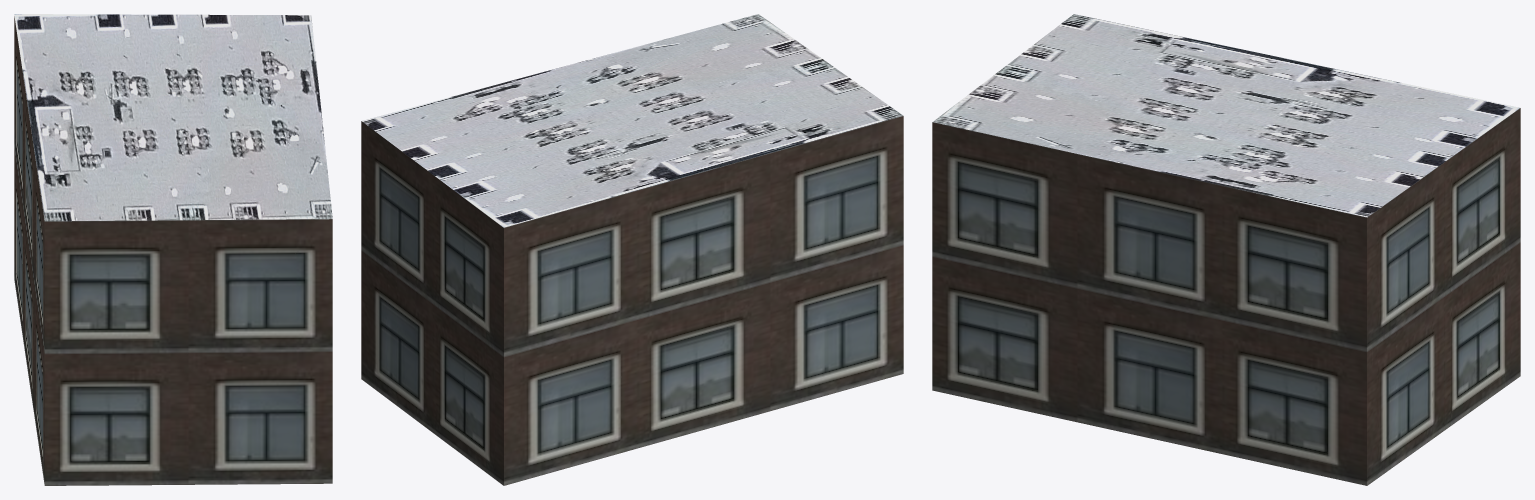
The model's file is ResTex__703.fbx.
3 renders of one model, left to right at view 1: azimuth 30°, elevation 25°; view 2: azimuth 150°, elevation 25°; view 3: azimuth 270°, elevation 25°, orthographic. The views are drawn at different scales.
Visible parts, largest first — view 1: CityEngineMaterial_16_m, CityEngineMaterial_15_m; view 2: CityEngineMaterial_16_m, CityEngineMaterial_15_m; view 3: CityEngineMaterial_16_m, CityEngineMaterial_15_m.
Boxes of the visible parts, box(x1,y1,x2,y2) form: CityEngineMaterial_16_m: box(14, 16, 332, 485); CityEngineMaterial_15_m: box(14, 14, 332, 221); CityEngineMaterial_16_m: box(361, 116, 903, 485); CityEngineMaterial_15_m: box(362, 14, 902, 227); CityEngineMaterial_16_m: box(932, 108, 1520, 485); CityEngineMaterial_15_m: box(933, 14, 1519, 217).
Size of the model in its own units: 9.76 by 6 by 11.91.
2 materials, 2 textured.
